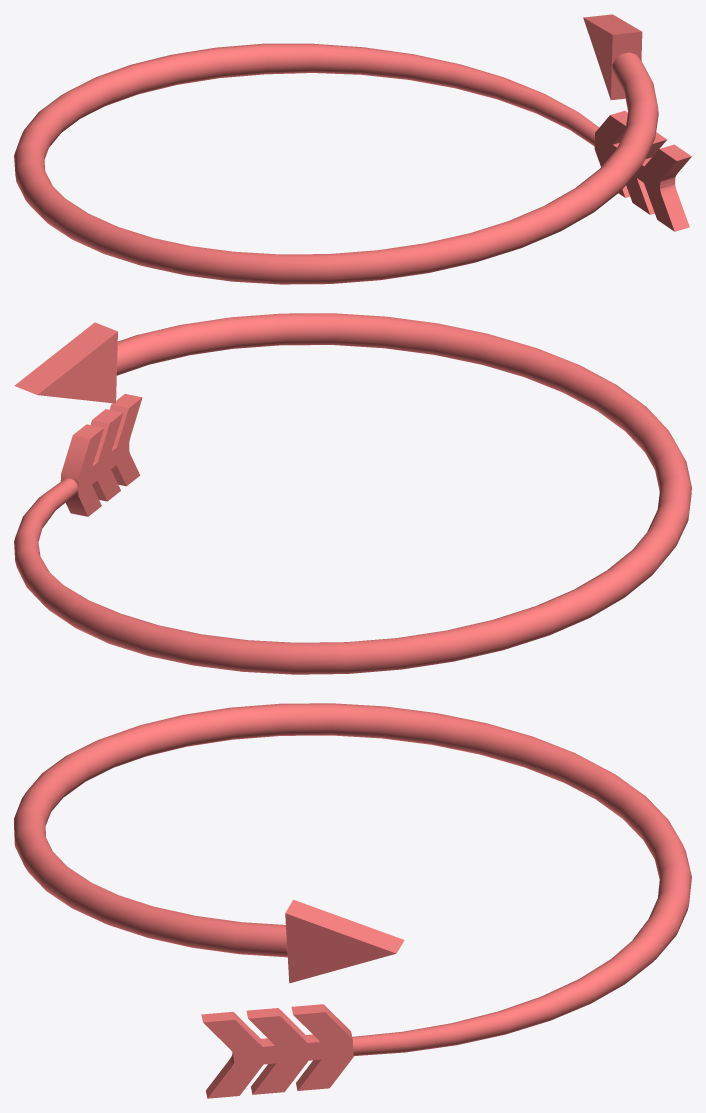
File: 3-pink.fbx
The picture shows the model from 3 angles, top to bottom: view 1: azimuth 30°, elevation 25°; view 2: azimuth 150°, elevation 25°; view 3: azimuth 270°, elevation 25°; orthographic projection. The views are drawn at different scales.
Parts seen in each view (by area): view 1: Helix001, Line002, Line001; view 2: Helix001, Line002, Line001; view 3: Helix001, Line002, Line001.
Boxes of the visible parts, x1,y1,x2,y2 form: Helix001: (14,43,658,284); Line002: (594,110,691,231); Line001: (583,14,642,100); Helix001: (14,313,691,674); Line002: (60,394,142,516); Line001: (14,322,117,403); Helix001: (14,703,691,1055); Line002: (201,1004,353,1098); Line001: (285,899,404,983).
Bounding box in the file's own units: 21.65 × 6.16 × 20.96.
